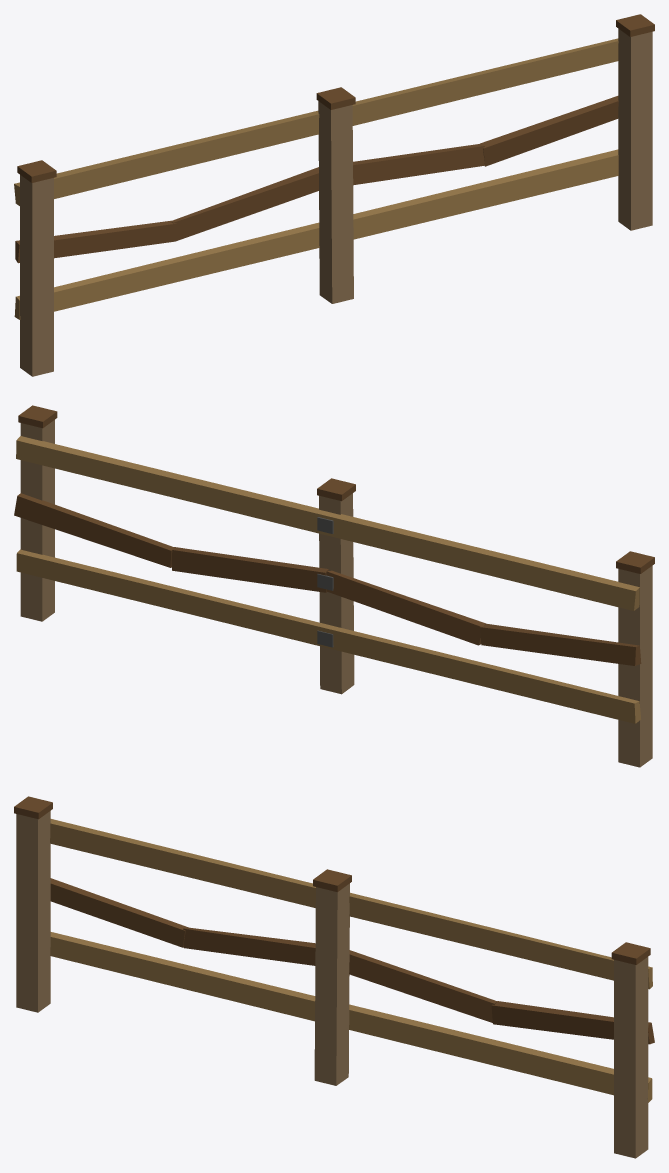
Rendered from fence.glb.
3 renders of one model, top to bottom at view 1: azimuth 30°, elevation 25°; view 2: azimuth 150°, elevation 25°; view 3: azimuth 330°, elevation 25°, orthographic.
Parts seen in each view (by area): view 1: fence; view 2: fence; view 3: fence.
Part boxes in pixels (left/top/right/bottom): fence: left=14, top=14, right=654, bottom=376; fence: left=14, top=405, right=654, bottom=767; fence: left=14, top=796, right=654, bottom=1158.
Size of the model in its own units: 4.02 by 1.24 by 0.21.
